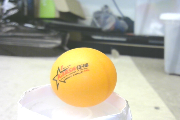PingPongBall: (51, 47, 117, 108)
